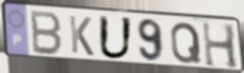9: (135, 17, 165, 65)
B: (30, 9, 64, 57)
H: (201, 20, 241, 71)
K: (67, 14, 96, 58)
Q: (169, 21, 203, 65)
U: (97, 14, 135, 61)
